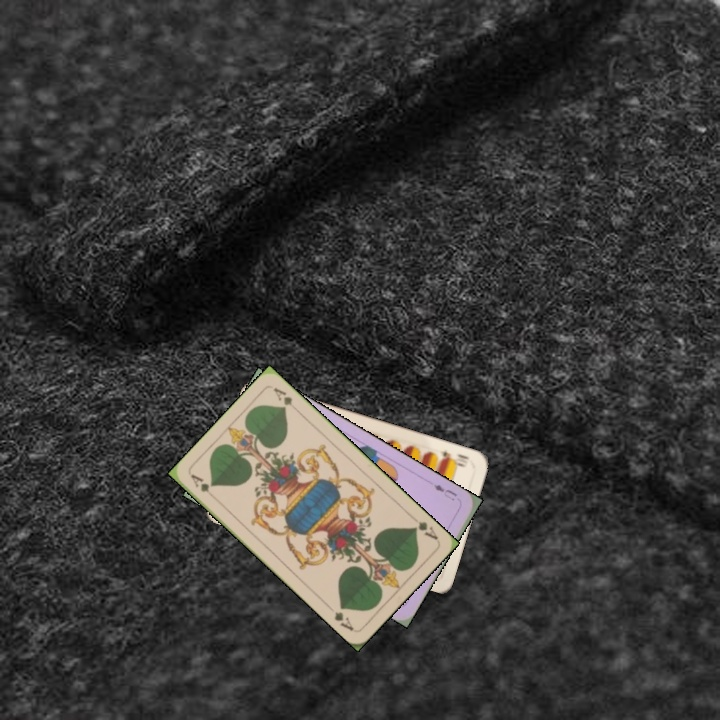E10: (436, 447, 472, 470)
EU: (430, 480, 460, 503)
GA: (406, 511, 441, 543), (187, 470, 212, 495)
